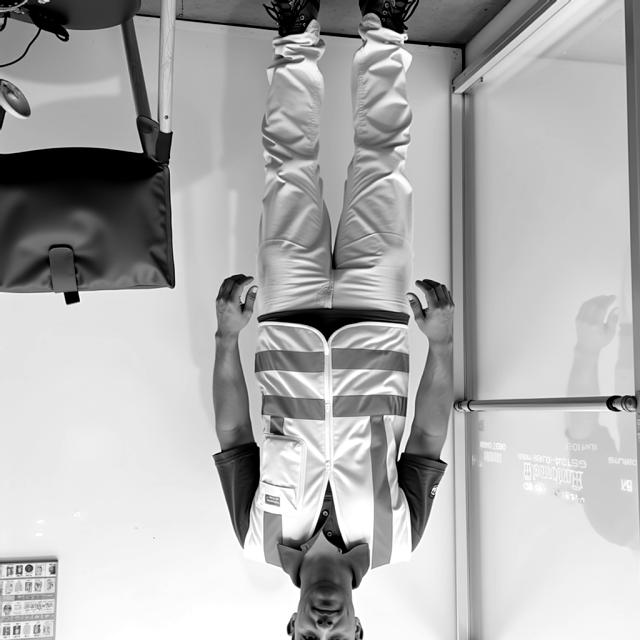Vest: (258, 319, 406, 559)
